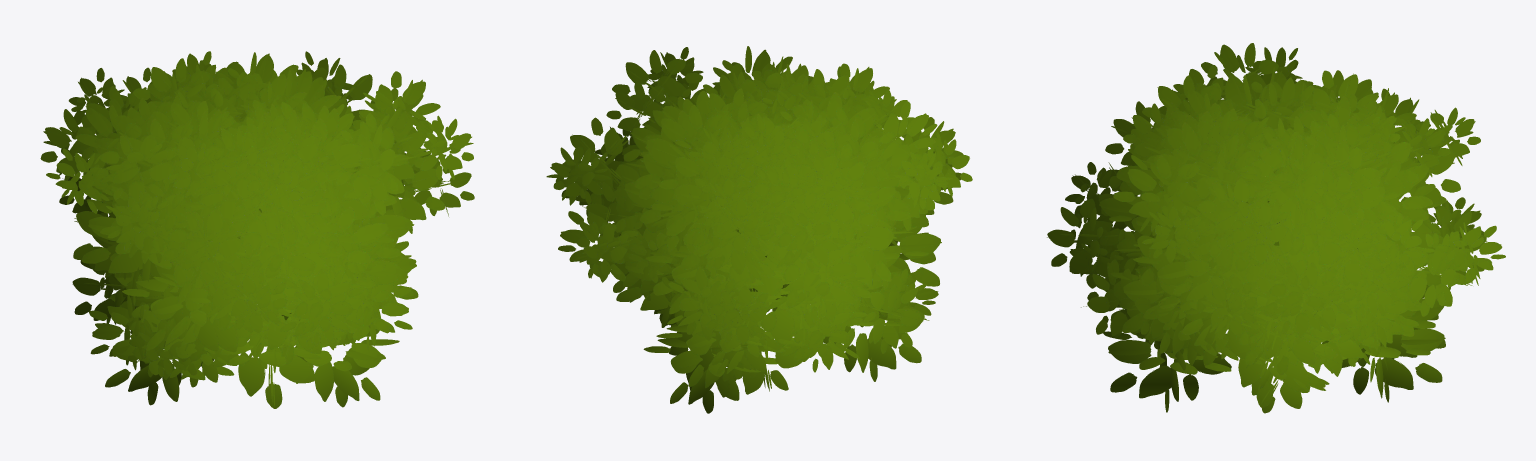
The model's file is bush1.glb.
3 renders of one model, left to right at view 1: azimuth 30°, elevation 25°; view 2: azimuth 150°, elevation 25°; view 3: azimuth 270°, elevation 25°, orthographic. The views are drawn at different scales.
Visible parts, largest first — view 1: Bush_Common; view 2: Bush_Common; view 3: Bush_Common.
Part boxes in pixels (x1=…): Bush_Common: x1=40, y1=51, x2=474, y2=408; Bush_Common: x1=546, y1=46, x2=972, y2=413; Bush_Common: x1=1047, y1=43, x2=1505, y2=413.
Bounding box in the file's own units: 1.91 × 1.58 × 1.97.
Materials: 1 (1 with a texture image).
